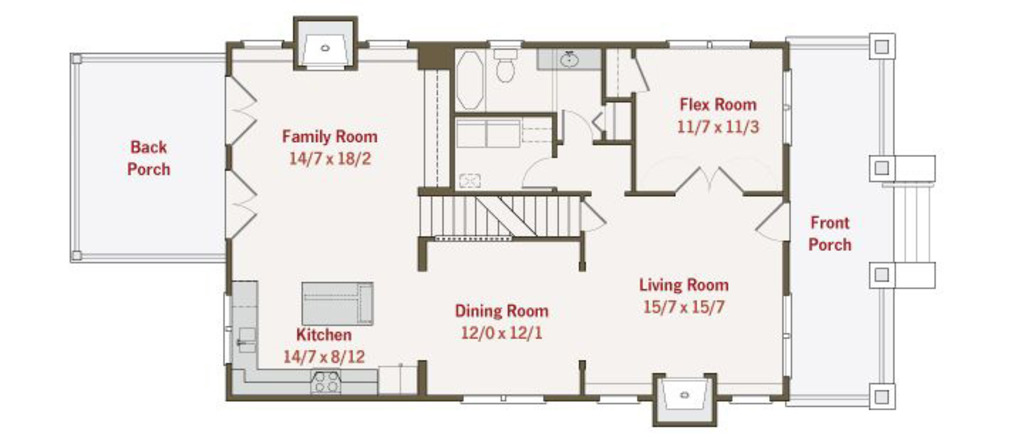door: (668, 159, 748, 198), (221, 164, 258, 246), (223, 69, 259, 152), (748, 197, 800, 245), (555, 108, 599, 143), (515, 155, 559, 186), (581, 197, 610, 232)
kitchen_bar: (286, 259, 383, 336)
large_sink: (488, 43, 524, 87)
small_sink: (535, 42, 595, 73)
stairs: (419, 187, 585, 240)
tub: (457, 44, 486, 113)
twin_sink: (234, 324, 269, 360)
window: (456, 389, 547, 409), (779, 291, 792, 378), (594, 390, 645, 407), (667, 39, 754, 48), (726, 391, 779, 405), (784, 65, 791, 145)
